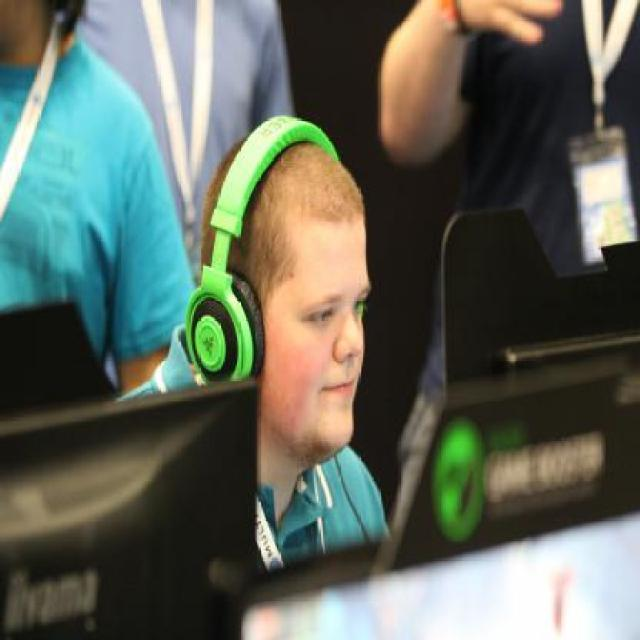earphone: (182, 88, 292, 392)
